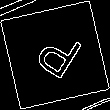P_SW: (26, 24, 84, 86)
